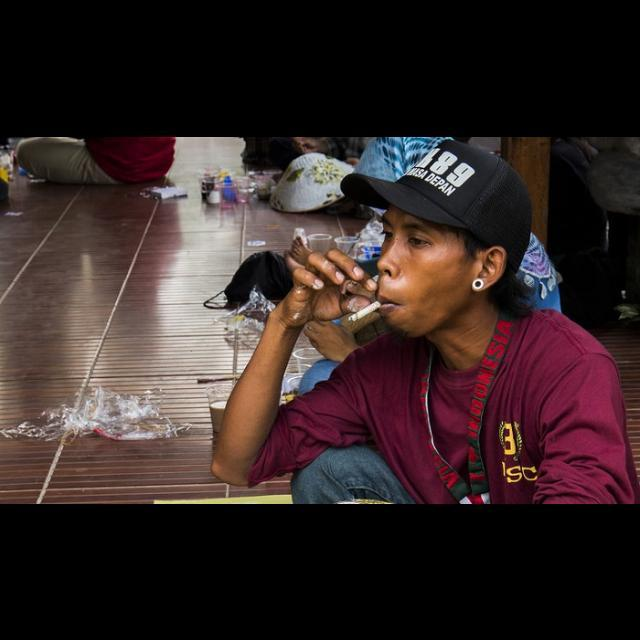rokok: (345, 295, 385, 327)
